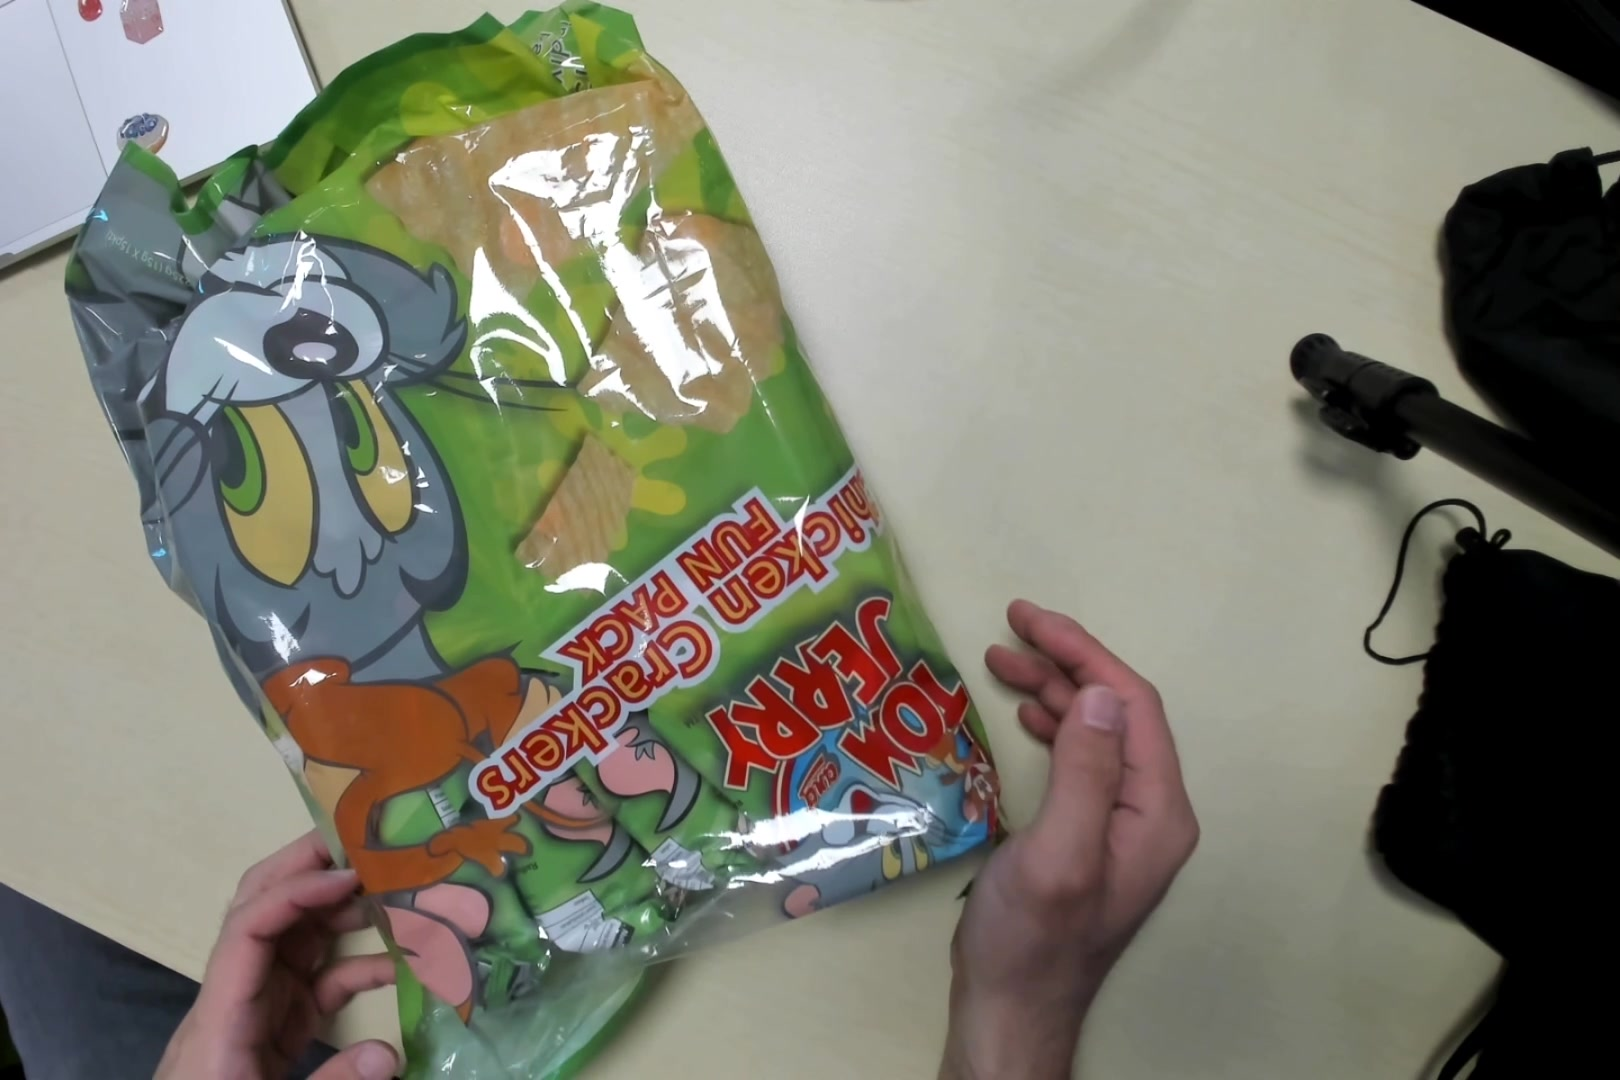PotatoChipsKeropok_200-299g_Halal_NonHealthy: (112, 71, 1004, 1080)
